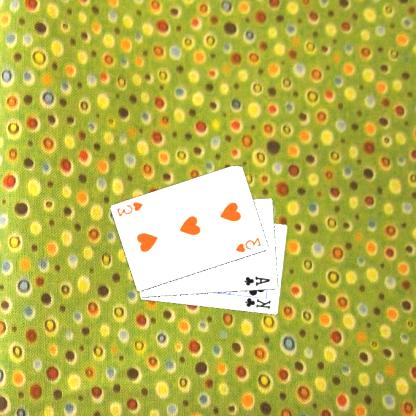3H: (116, 199, 146, 218), (235, 235, 264, 254)
AC: (244, 274, 273, 288)
KC: (242, 292, 274, 310)
